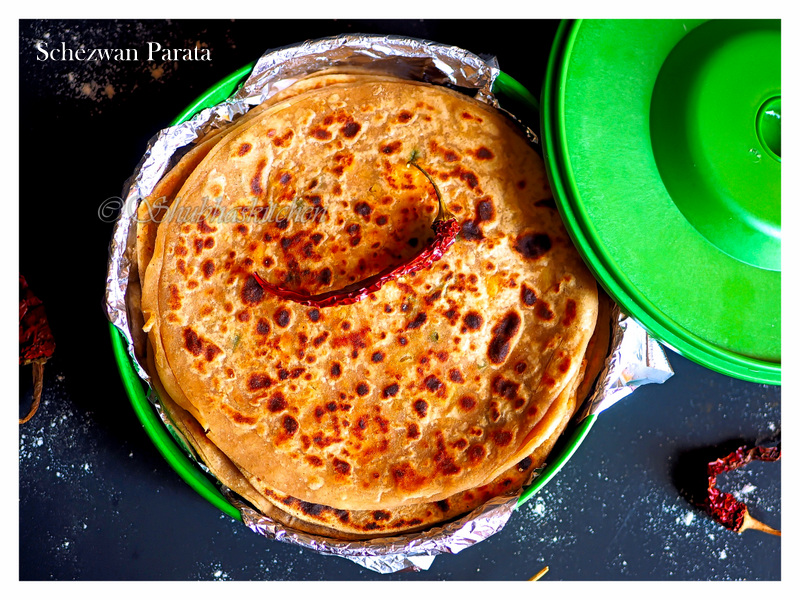aloo_paratha: (144, 85, 603, 544)
